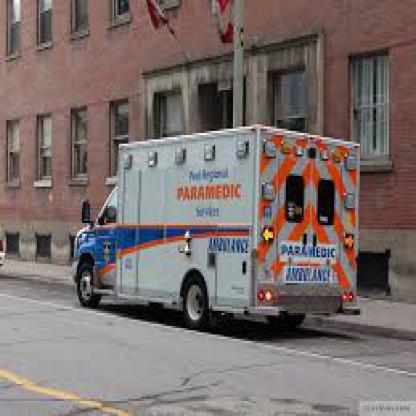van: (69, 120, 363, 332)
